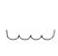inductor: (4, 27, 56, 39)
